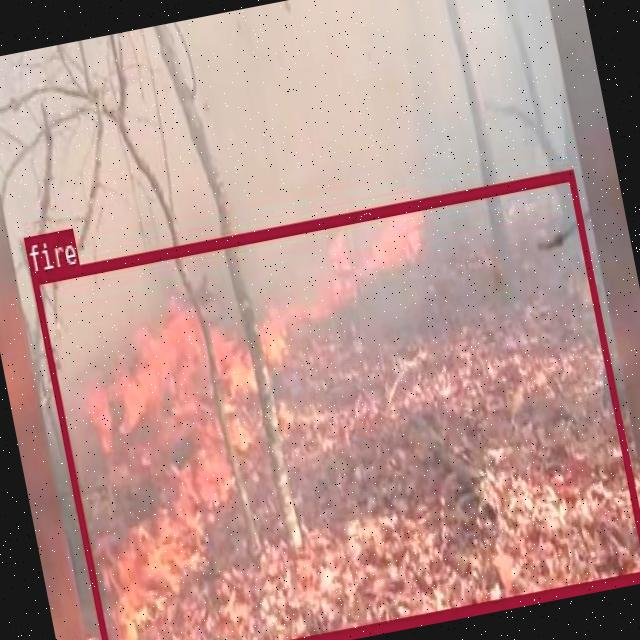fire: (29, 169, 640, 640)
